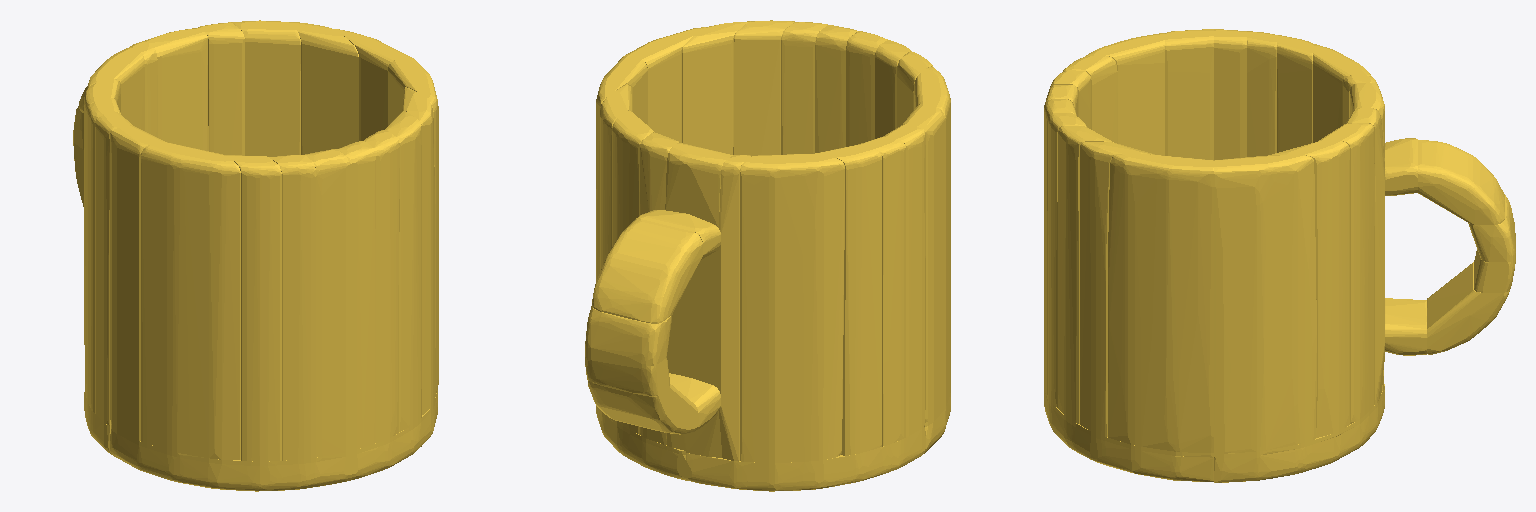
URDF robot description (1006.urdf):
<?xml version="1.0" ?>
<robot name="1006.urdf">
	<link name="baseLink">
		<inertial>
			<origin rpy="0 0 0" xyz="0 0 0"/>
				<mass value="0.1"/>
				<inertia ixx="6e-5" ixy="0" ixz="0" iyy="6e-5" iyz="0" izz="6e-5"/>
		</inertial>
		<visual>
			<origin rpy="0 0 0" xyz="0 0 0"/>
			<geometry>
				<mesh filename="16_decom_wt.obj" scale="0.96 0.96 0.98"/>
			</geometry>
			<material name="yellow">
				<color rgba="0.98 0.84 0.35 1"/>
			</material>
		</visual>
		<collision>
			<origin rpy="0 0 0" xyz="0 0 0"/>
			<geometry>
				<mesh filename="16_decom_wt.obj" scale="0.96 0.96 0.98"/>
			</geometry>
		</collision>
	</link>
</robot>

--- Facts derived from the render (not from the file) ---
Views: 3 orthographic renders of the robot side by side, from view 1: azimuth 30°, elevation 25°; view 2: azimuth 150°, elevation 25°; view 3: azimuth 270°, elevation 25°.
Model 1006.urdf with 1 links and 0 joints (none), rooted at baseLink, posed every joint at zero.
Visible links, largest first — view 1: baseLink; view 2: baseLink; view 3: baseLink.
Boxes of the visible links, bbox=[...] form: baseLink: bbox=[73, 20, 438, 491]; baseLink: bbox=[585, 20, 950, 491]; baseLink: bbox=[1044, 29, 1515, 482].
Bounding box of the posed robot: 0.0993 × 0.1375 × 0.1016 m (x, y, z).
Meshes: 1 distinct files referenced, 1 mesh visuals loaded (1 OBJ).